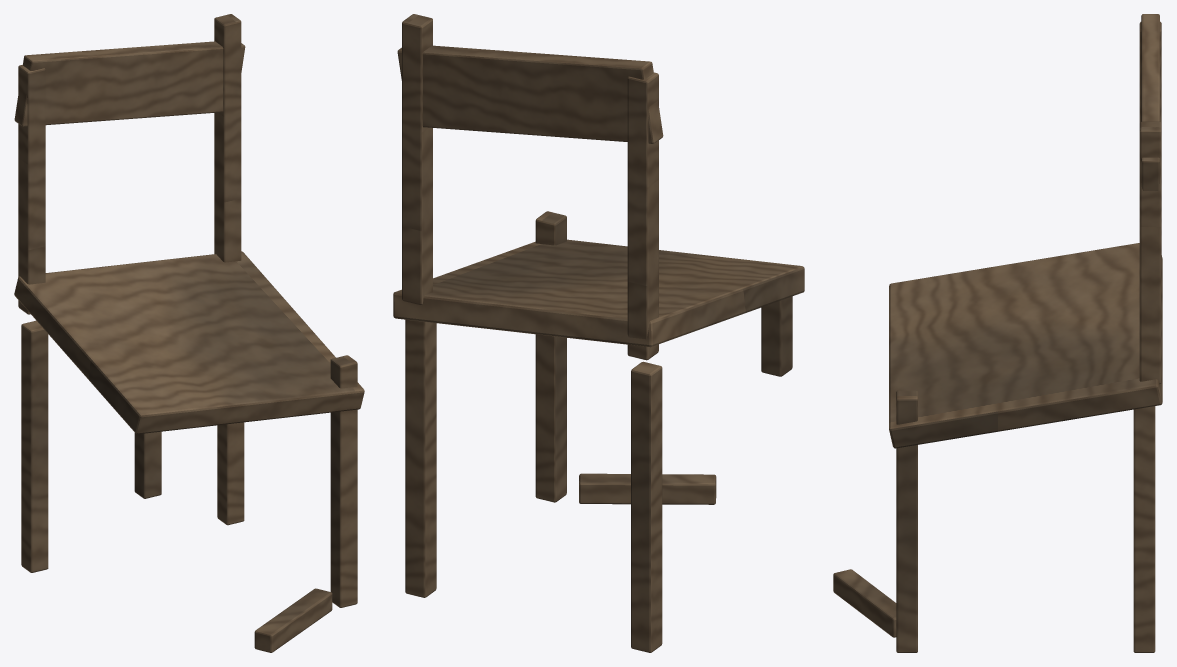
File: BR01_broken_chair_v2.glb
The picture shows the model from 3 angles, left to right: view 1: azimuth 30°, elevation 25°; view 2: azimuth 150°, elevation 25°; view 3: azimuth 270°, elevation 25°; orthographic projection. The views are drawn at different scales.
Visible parts, largest first — view 1: BR01_broken_chair_v2; view 2: BR01_broken_chair_v2; view 3: BR01_broken_chair_v2.
Part boxes in pixels (x1,y1,x2,y2): BR01_broken_chair_v2: (14,14,364,652); BR01_broken_chair_v2: (393,14,804,652); BR01_broken_chair_v2: (833,14,1162,652).
Bounding box in the file's own units: 0.4304 × 0.9 × 0.5035.
Materials: 1 (1 with a texture image).
